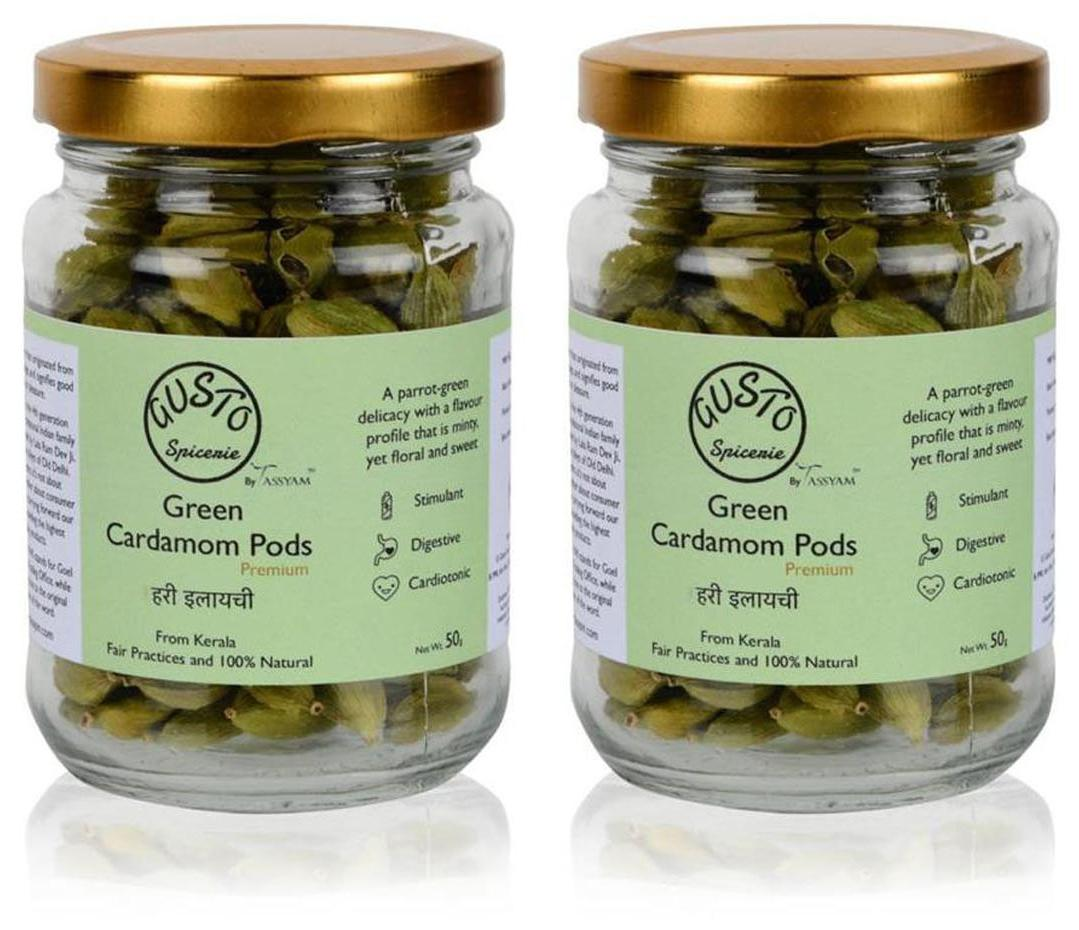JAR: (560, 18, 1062, 832), (16, 17, 520, 820)
